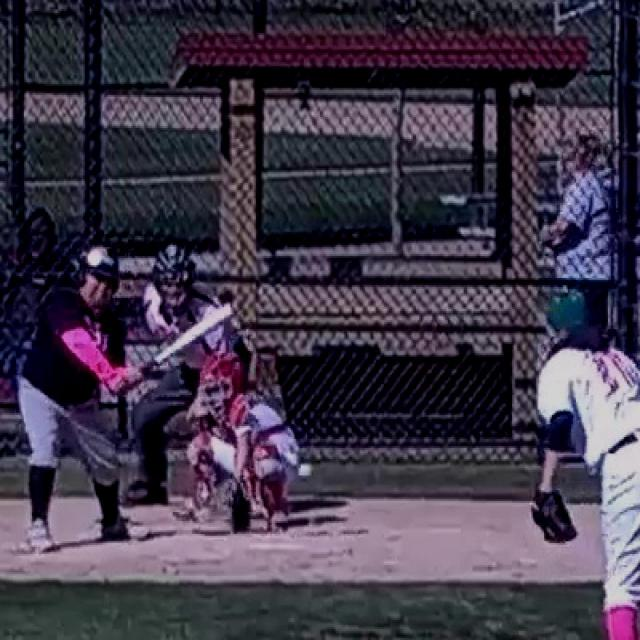baseball: (298, 465, 313, 477)
